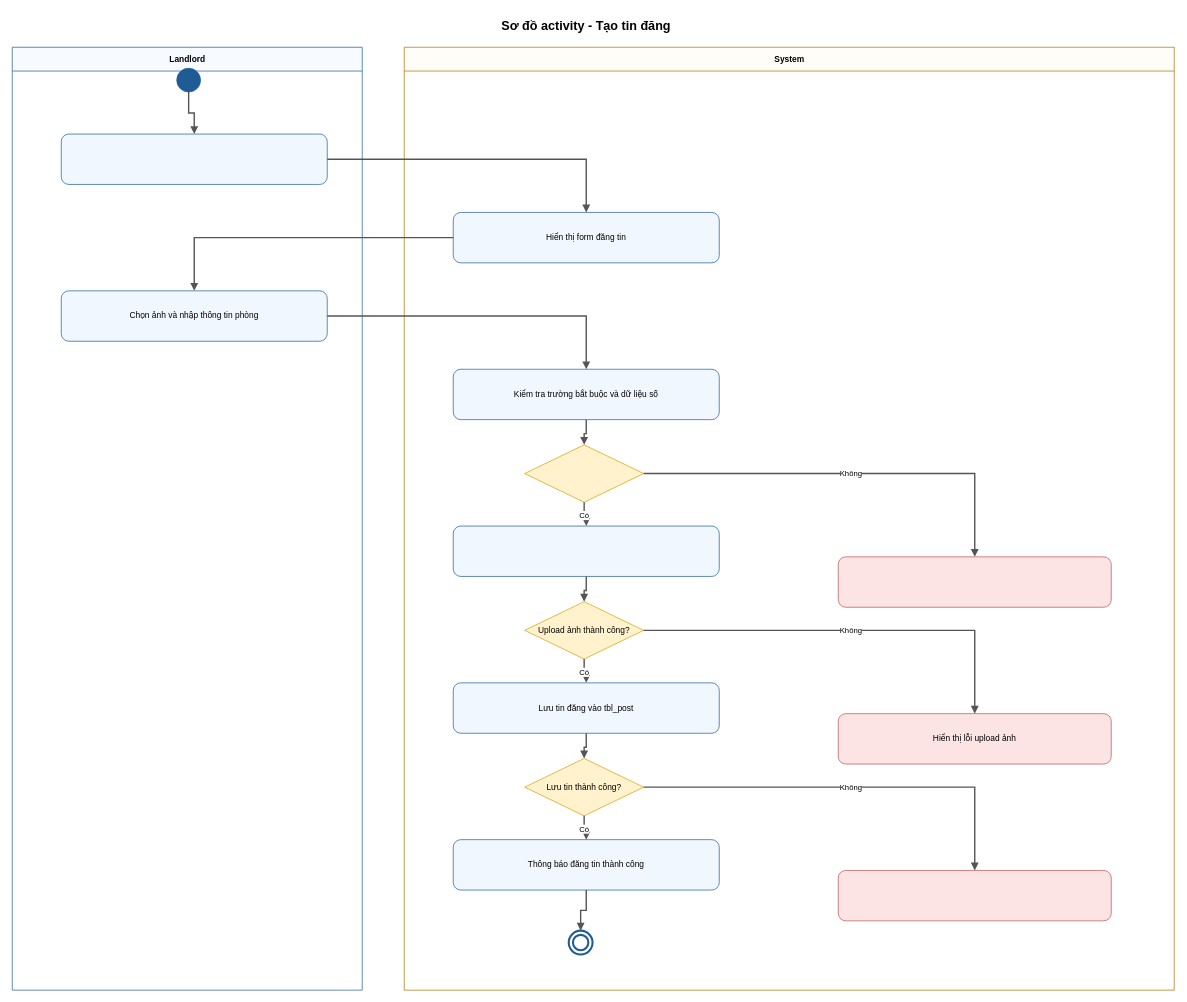
Some shapes in this 1187 by 1002 pixel diagram are drawn without their labels. Here are the shapes that lost their labels. From the top down, the centre of each, then its label:
At (x=194, y=158): "Chọn chức năng đăng tin".
At (x=584, y=473): "Form hợp lệ?".
At (x=586, y=550): "Tải ảnh lên Supabase Storage".
At (x=974, y=581): "Hiển thị lỗi validation".
At (x=974, y=895): "Hiển thị lỗi lưu tin".
